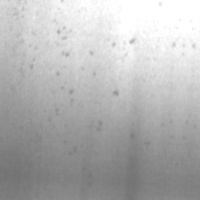pitted_surface: (10, 0, 88, 130)
